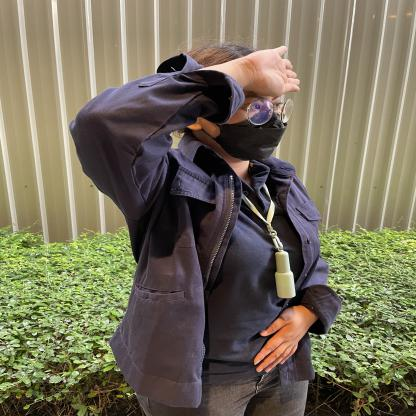Sick: (132, 28, 336, 106)
